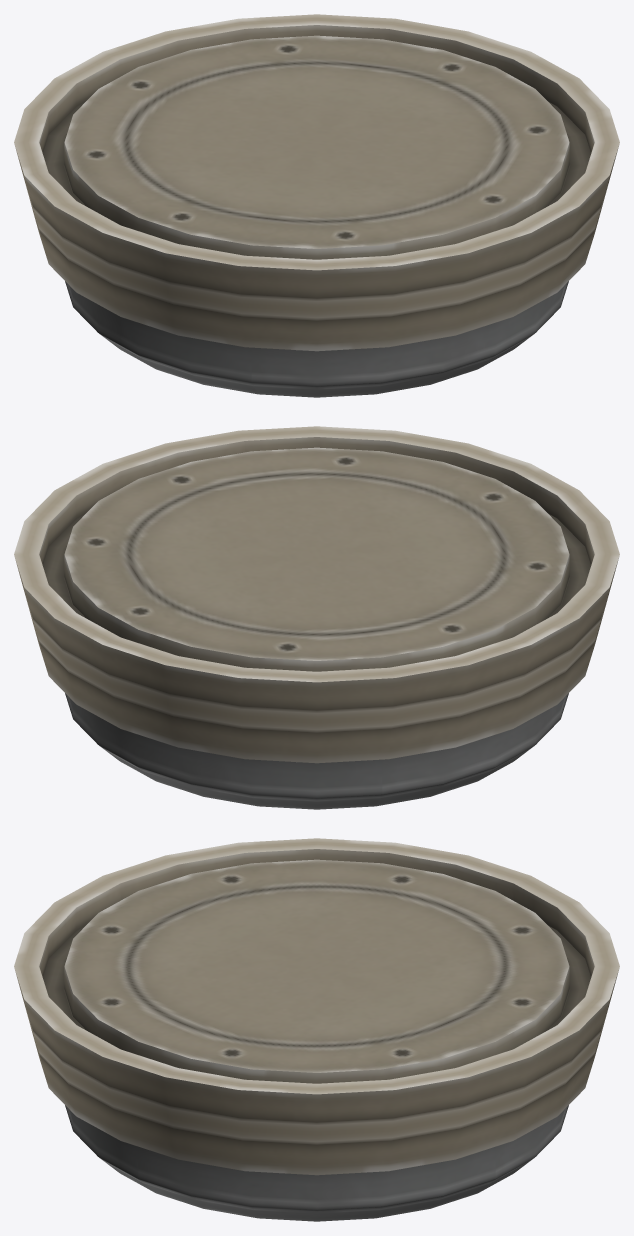
The model's file is Ara_Mount_1.obj.
3 renders of one model, top to bottom at view 1: azimuth 30°, elevation 25°; view 2: azimuth 150°, elevation 25°; view 3: azimuth 270°, elevation 25°, orthographic.
Parts seen in each view (by area): view 1: Ara_Mount_1; view 2: Ara_Mount_1; view 3: Ara_Mount_1.
Part boxes in pixels (left/top/right/bottom): Ara_Mount_1: left=14, top=14, right=619, bottom=397; Ara_Mount_1: left=14, top=426, right=619, bottom=809; Ara_Mount_1: left=14, top=838, right=619, bottom=1221.
Size of the model in its own units: 0.75 by 0.2175 by 0.75.
